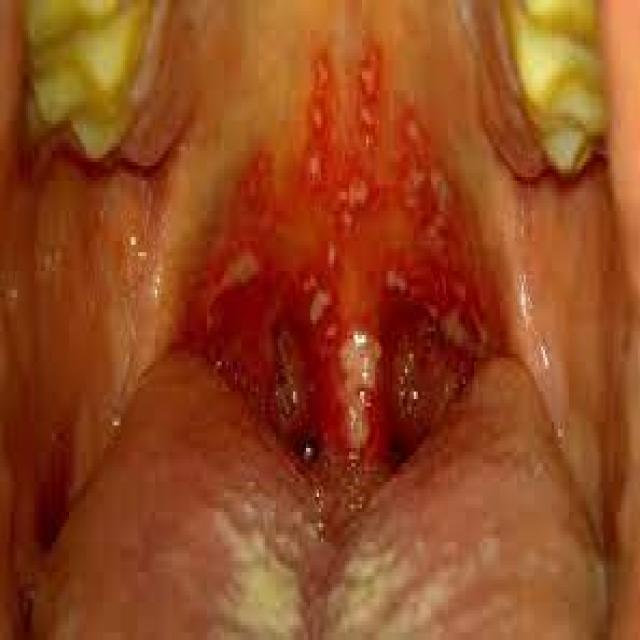processing_area: (6, 0, 638, 636)
ulcer-detection: (161, 17, 525, 499)
